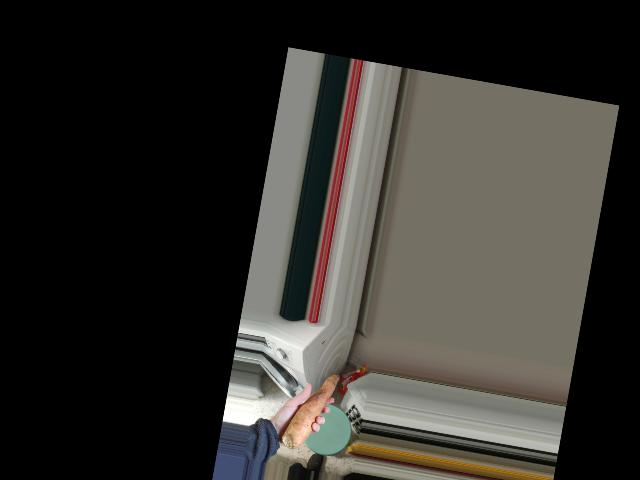sweet_potato: (277, 360, 344, 456)
